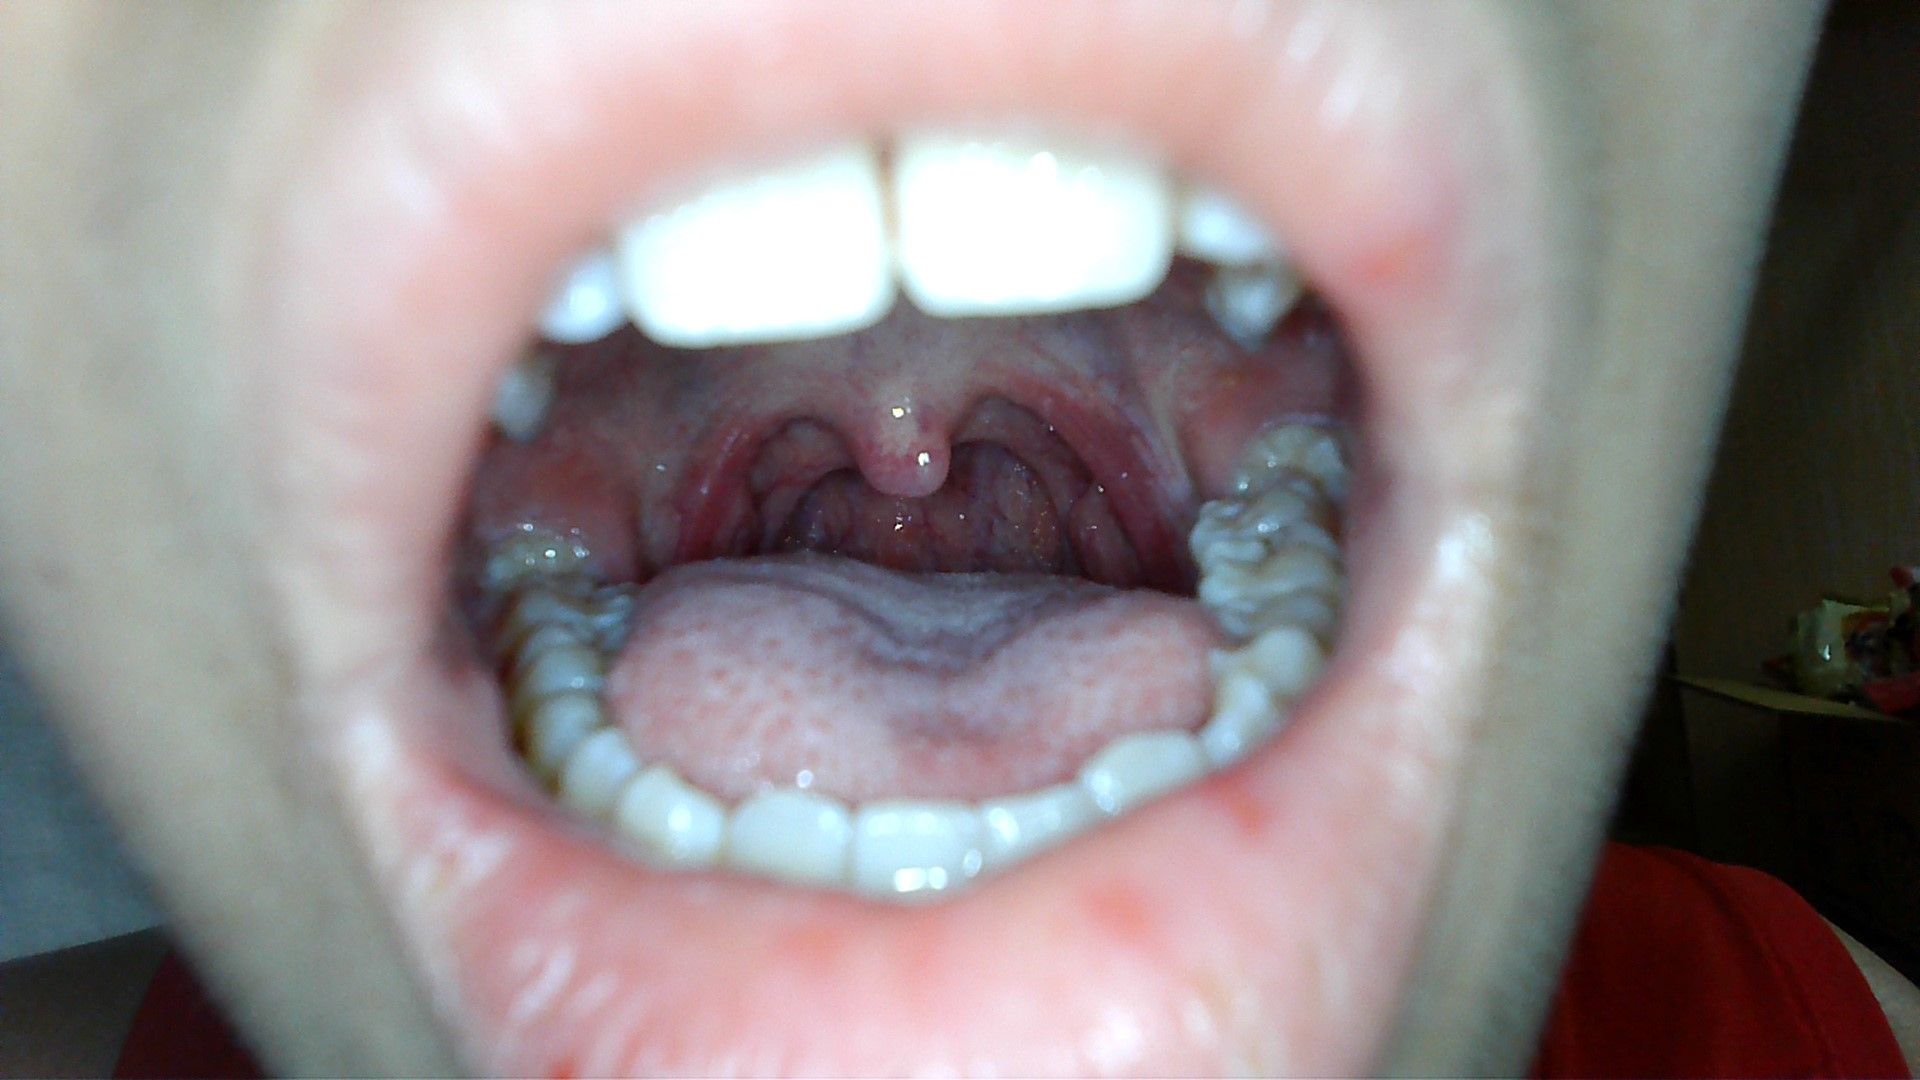throat: (1050, 368, 1166, 576), (654, 388, 782, 560)
